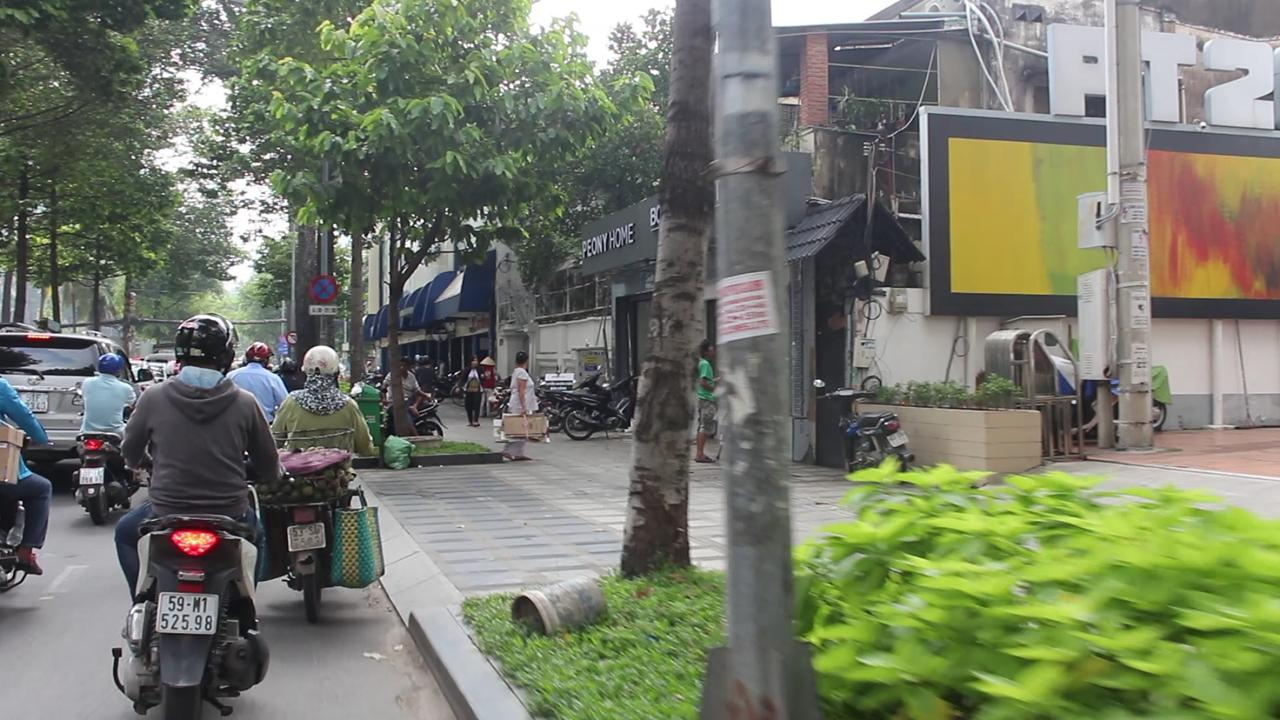P.103a: (304, 270, 342, 308)
